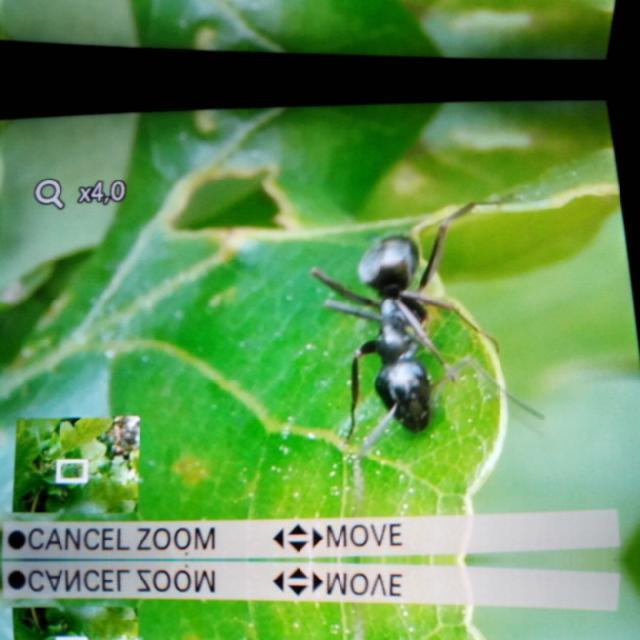Formica: (320, 208, 478, 454)
